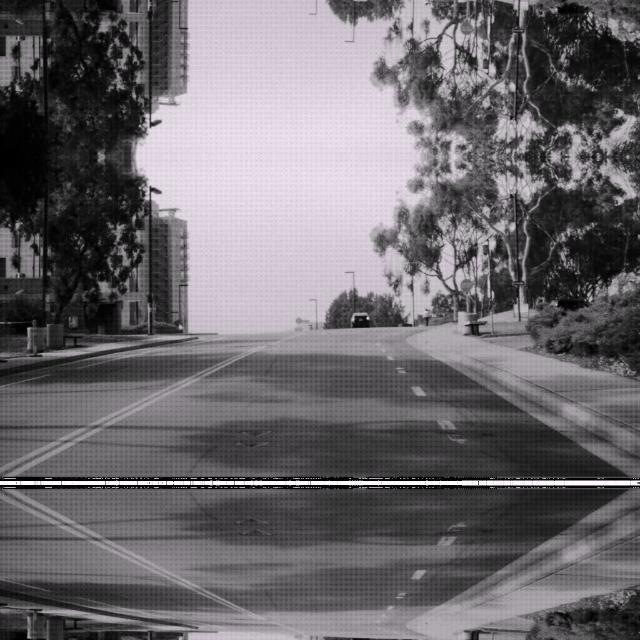stop: (459, 276, 473, 292), (459, 20, 473, 36)
